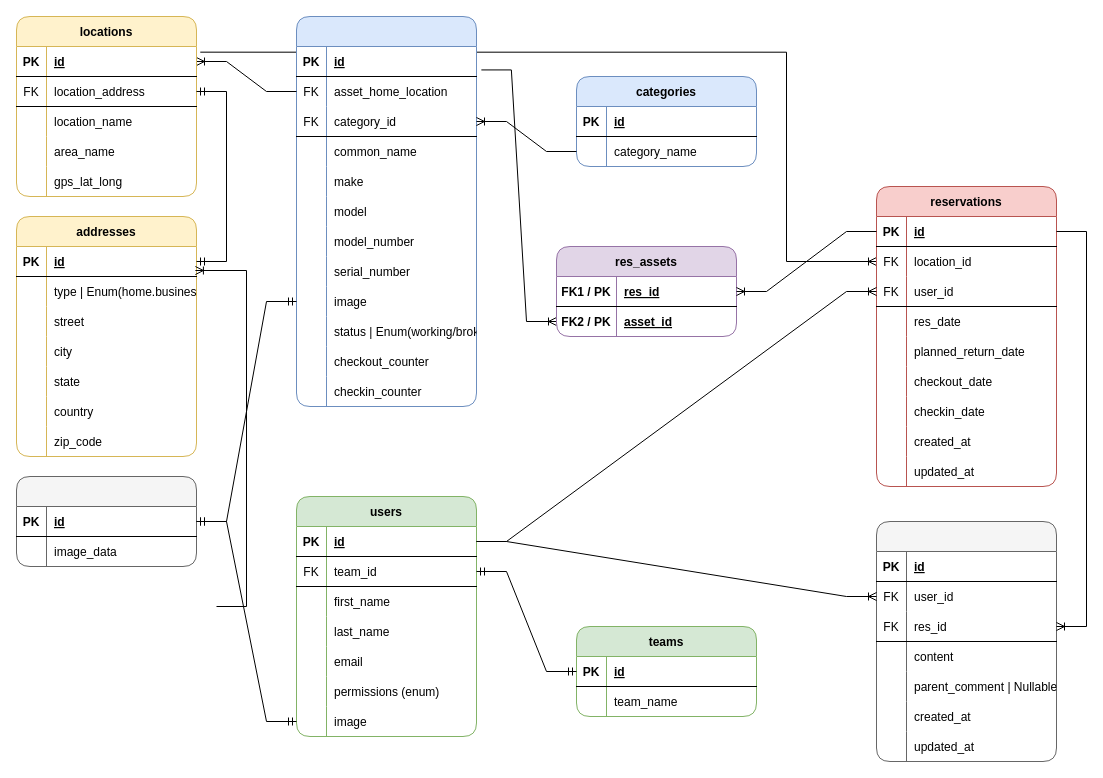
The diagram is 1103 pixels wide and 778 high, and some of its shapes have lost their labels. Each missing label, with the box of its shape:
assets: (296, 16, 476, 406)
comments: (876, 520, 1056, 762)
images: (16, 476, 196, 566)
